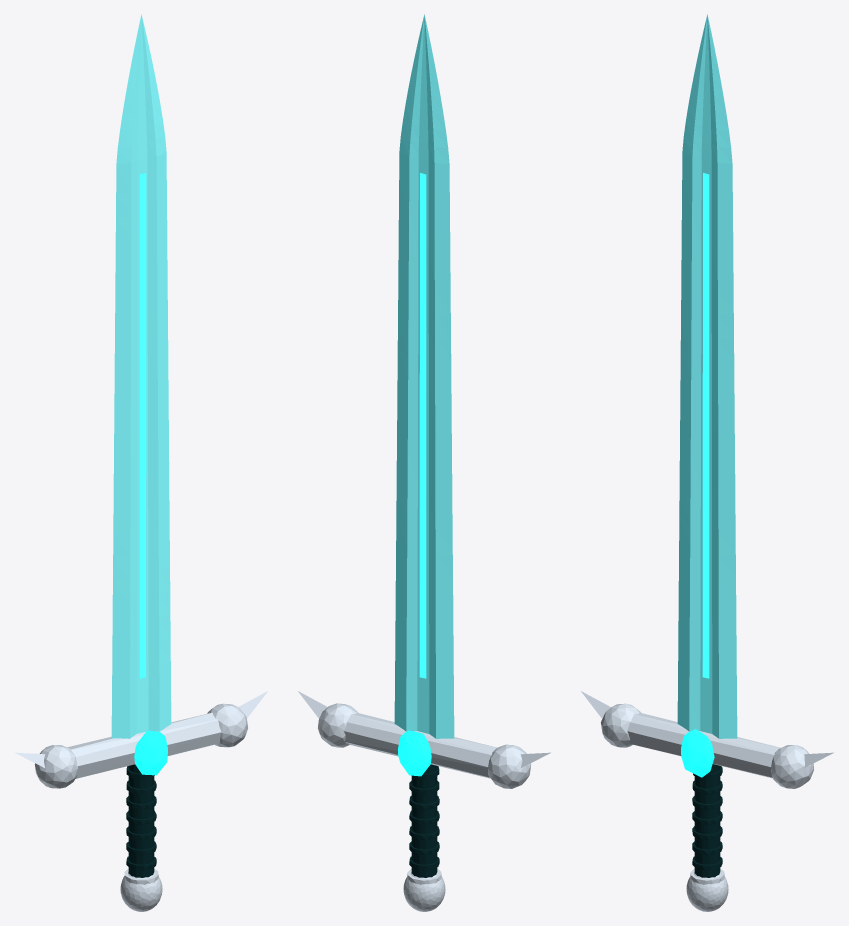
File: sword_2.glb
The picture shows the model from 3 angles, left to right: view 1: azimuth 30°, elevation 25°; view 2: azimuth 150°, elevation 25°; view 3: azimuth 330°, elevation 25°; orthographic projection.
Parts seen in each view (by area): view 1: part_01, part_03, part_04, part_11, part_05, part_09, part_06, part_19; view 2: part_01, part_02, part_04, part_11, part_05, part_10, part_06, part_19; view 3: part_01, part_03, part_04, part_11, part_06, part_09, part_05, part_19.
Part boxes in pixels (x1=…): part_01: x1=111, y1=14, x2=171, y2=738; part_03: x1=139, y1=173, x2=146, y2=678; part_04: x1=67, y1=712, x2=221, y2=778; part_11: x1=128, y1=764, x2=154, y2=877; part_05: x1=34, y1=745, x2=78, y2=788; part_09: x1=134, y1=730, x2=167, y2=775; part_06: x1=207, y1=703, x2=247, y2=747; part_19: x1=120, y1=872, x2=162, y2=911; part_01: x1=394, y1=14, x2=454, y2=738; part_02: x1=419, y1=173, x2=426, y2=678; part_04: x1=344, y1=713, x2=496, y2=778; part_11: x1=411, y1=764, x2=437, y2=877; part_05: x1=488, y1=744, x2=531, y2=788; part_10: x1=398, y1=730, x2=431, y2=776; part_06: x1=318, y1=703, x2=358, y2=747; part_19: x1=403, y1=872, x2=445, y2=911; part_01: x1=677, y1=14, x2=737, y2=738; part_03: x1=702, y1=173, x2=709, y2=678; part_04: x1=627, y1=712, x2=780, y2=778; part_11: x1=694, y1=764, x2=720, y2=877; part_06: x1=771, y1=745, x2=814, y2=788; part_09: x1=681, y1=729, x2=714, y2=777; part_05: x1=601, y1=703, x2=641, y2=747; part_19: x1=686, y1=872, x2=728, y2=911.
Bounding box in the file's own units: 0.3914 × 1.32 × 0.0804.
